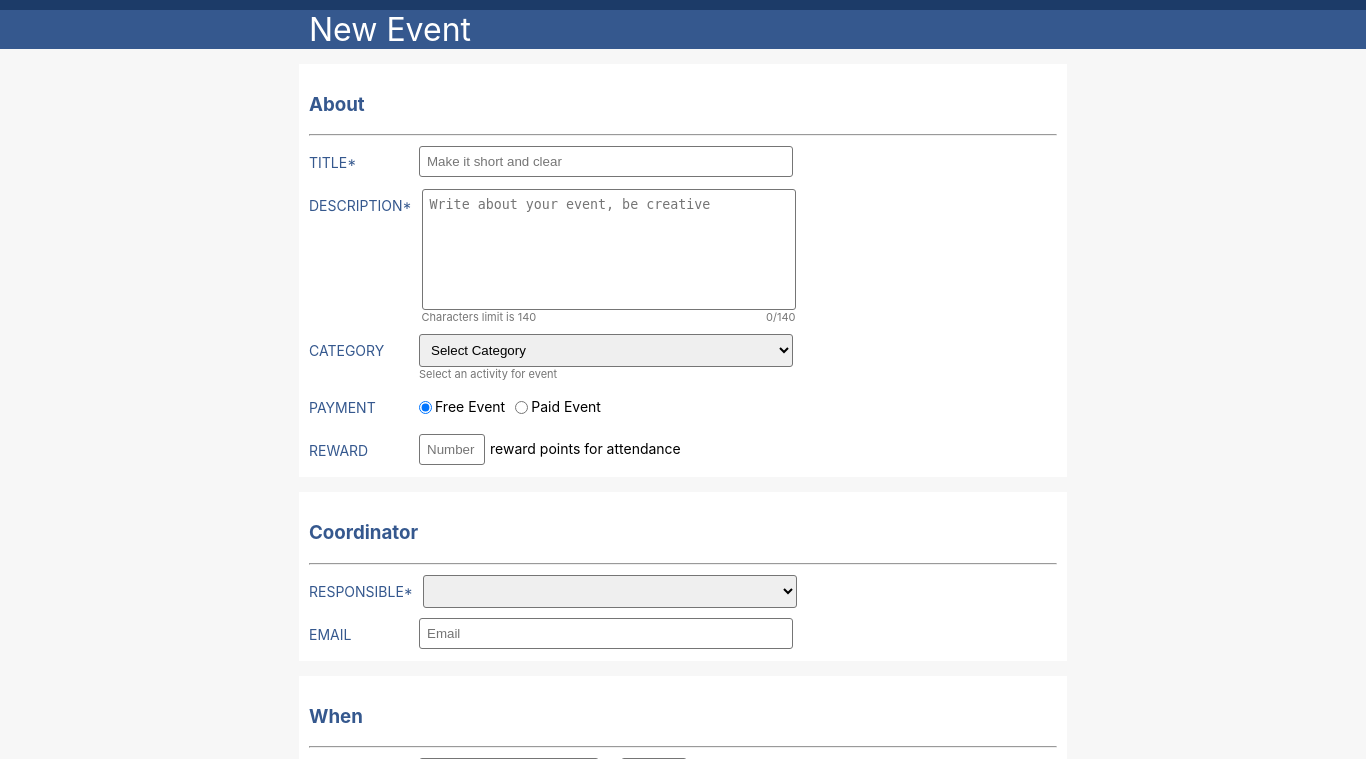
should show and hide Fee input
The width and height of the screenshot is (1366, 759).
Click the text "Paid Event". click: (558, 407)
box: x1=515 y1=398 x2=601 y2=415
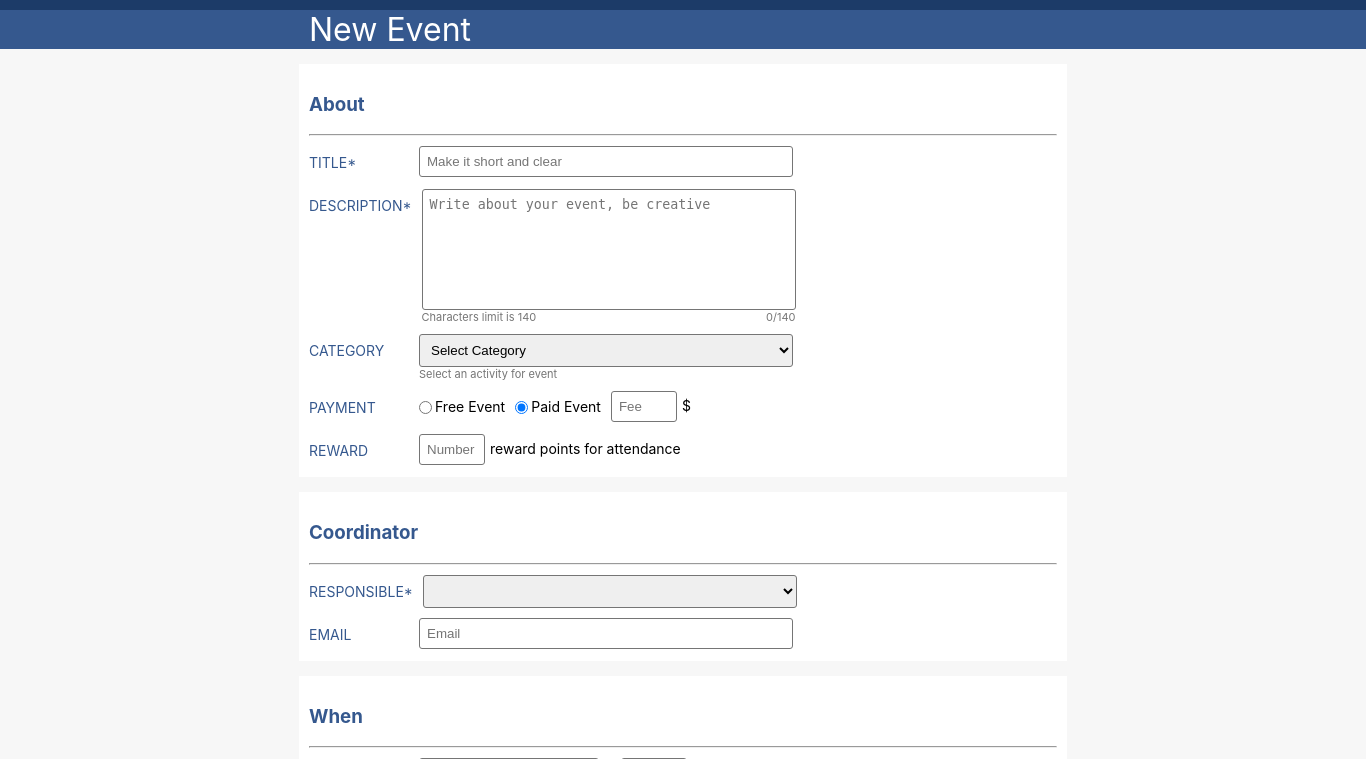
Now the number field with placeholder "Fee" is shown, box x1=611 y1=391 x2=677 y2=422
Click the text "Free Event". click: (462, 407)
box: x1=419 y1=398 x2=505 y2=415
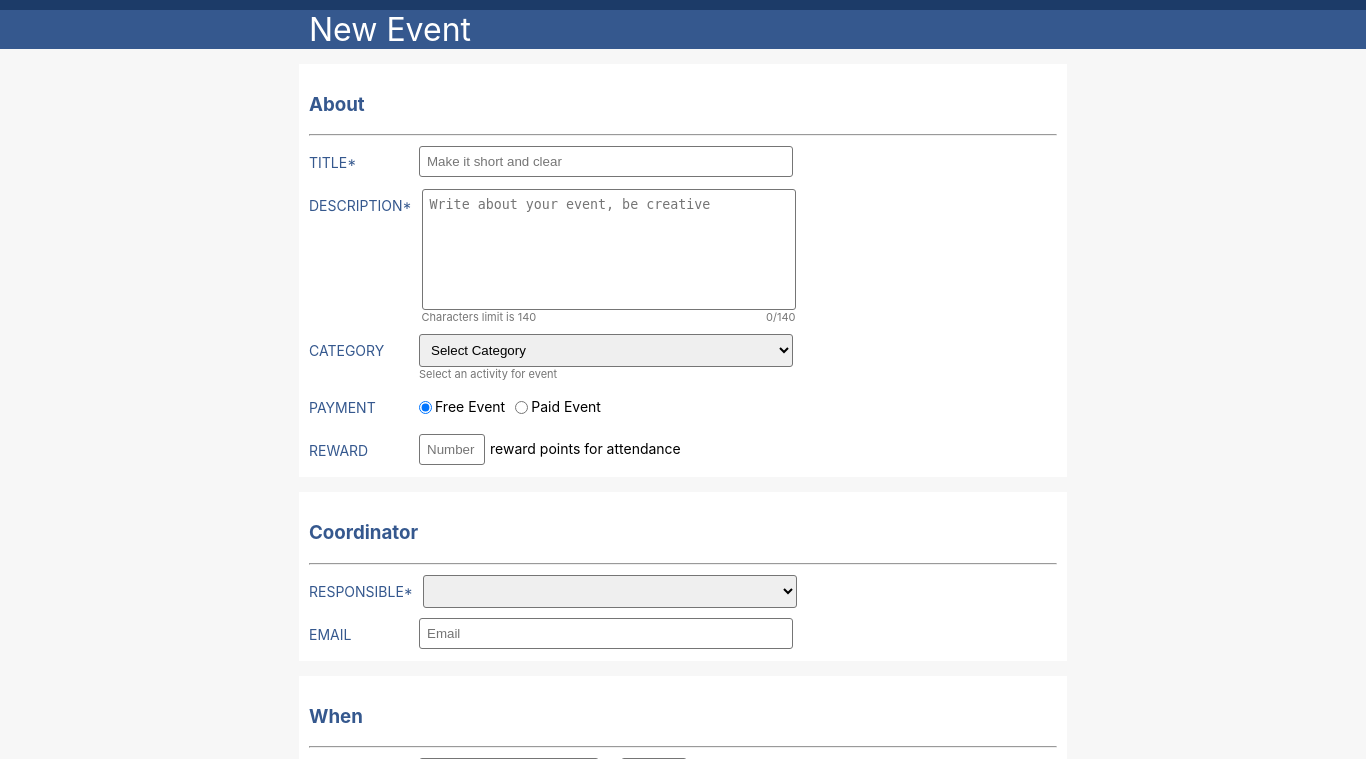
Now the number field with placeholder "Fee" is gone
